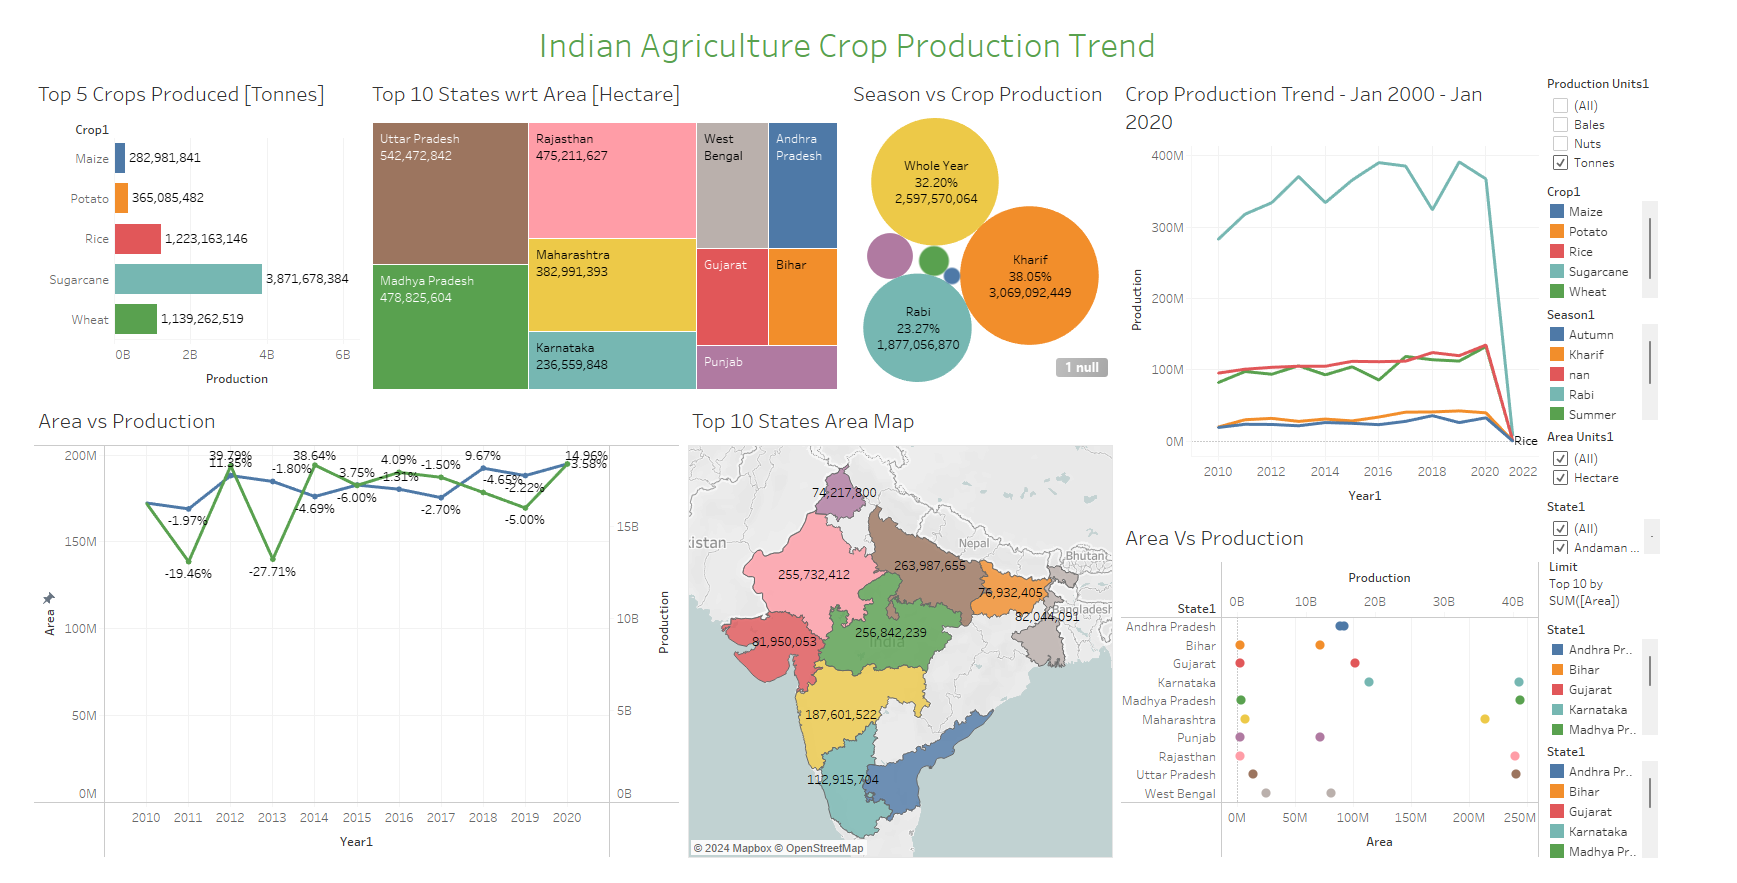

The page's visual inventory and layout, read from the dashboard file:
{"tool":"tableau","page":{"name":"Dashboard 1","canvas":[1000,1000],"units":"permille","ordinal":0},"visuals":[{"type":"title","box":[4.9,9.3,990.3,61.6]},{"type":"worksheet","title":"Top 5  Crops[Total Production]","mark":"Automatic","rows":["Crop"],"cols":["Production"],"box":[4.9,70.9,202.1,380.3]},{"type":"worksheet","title":"Top 10 States wrt Area ","mark":"Automatic","box":[207,70.9,291.7,380.3]},{"type":"worksheet","title":"Season vs Crop Production","mark":"Circle","box":[498.7,70.9,164.9,380.3]},{"type":"worksheet","title":"Crop Production Trend","mark":"Automatic","rows":["Production"],"cols":["Year"],"box":[663.6,70.9,258.2,516.1]},{"type":"filter","title":"Top 5  Crops[Total Production]","param":"[federated.0xemf081fvv36816sos2u1na6l2d].[none:Production Units:nk]","box":[921.8,70.9,73.3,125.6]},{"type":"legend","title":"Top 5  Crops[Total Production]","param":"[federated.0xemf081fvv36816sos2u1na6l2d].[none:Crop:nk]","box":[921.8,196.5,73.3,142.6]},{"type":"legend","title":"Season vs Crop Production","param":"[federated.0xemf081fvv36816sos2u1na6l2d].[none:Season:nk]","box":[921.8,339.1,73.3,142.6]},{"type":"worksheet","title":"Area vs Production ","mark":"Automatic","rows":["Area","Production"],"cols":["Year"],"box":[4.9,451.2,396.3,539.5]},{"type":"worksheet","title":"Top 10 States Area Map","mark":"Multipolygon","box":[401.2,451.2,262.4,539.5]},{"type":"filter","title":"Top 10 States wrt Area ","param":"[federated.0xemf081fvv36816sos2u1na6l2d].[none:Area Units:nk]","box":[921.8,481.6,73.3,81.4]},{"type":"filter","title":"Top 10 States wrt Area ","param":"[federated.0xemf081fvv36816sos2u1na6l2d].[none:State:nk]","box":[921.8,563,73.3,142.6]},{"type":"worksheet","title":"Area Vs Production","mark":"Automatic","rows":["State"],"cols":["Area","Production"],"box":[663.6,587,258.2,403.7]},{"type":"legend","title":"Top 10 States wrt Area ","param":"[federated.0xemf081fvv36816sos2u1na6l2d].[none:State:nk]","box":[921.8,705.6,73.3,142.6]},{"type":"legend","title":"Area Vs Production","param":"[federated.0xemf081fvv36816sos2u1na6l2d].[none:State:nk]","box":[921.8,848.1,73.3,142.6]}]}

Visuals, with their boxes on the dashboard's canvas, which has no fixed pixel size, in thousandths of its width and height (x1, y1, x2, y2). These are canvas units, not pixel positions in the 1737x883 screenshot, which may show the page scaled, cropped or inside an application window:
title: locate(5, 9, 995, 71)
"Top 5  Crops[Total Production]" worksheet: locate(5, 71, 207, 451)
"Top 10 States wrt Area " worksheet: locate(207, 71, 499, 451)
"Season vs Crop Production" worksheet (Circle marks): locate(499, 71, 664, 451)
"Crop Production Trend" worksheet: locate(664, 71, 922, 587)
"Top 5  Crops[Total Production]" filter: locate(922, 71, 995, 196)
"Top 5  Crops[Total Production]" legend: locate(922, 196, 995, 339)
"Season vs Crop Production" legend: locate(922, 339, 995, 482)
"Area vs Production " worksheet: locate(5, 451, 401, 991)
"Top 10 States Area Map" worksheet (Multipolygon marks): locate(401, 451, 664, 991)
"Top 10 States wrt Area " filter: locate(922, 482, 995, 563)
"Top 10 States wrt Area " filter: locate(922, 563, 995, 706)
"Area Vs Production" worksheet: locate(664, 587, 922, 991)
"Top 10 States wrt Area " legend: locate(922, 706, 995, 848)
"Area Vs Production" legend: locate(922, 848, 995, 991)
